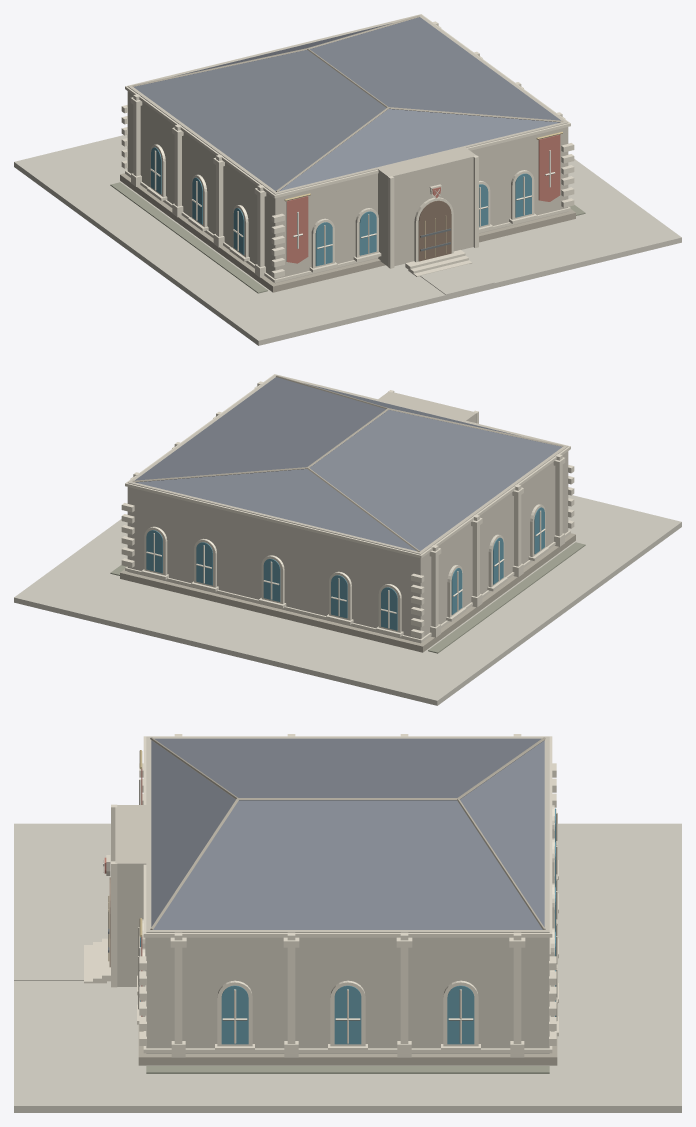
File: WarriorAcademy_Lv1.fbx
The picture shows the model from 3 angles, top to bottom: view 1: azimuth 30°, elevation 25°; view 2: azimuth 150°, elevation 25°; view 3: azimuth 270°, elevation 25°; orthographic projection. The views are drawn at different scales.
Visible parts, largest first — view 1: Slate hip roof.005, Fixed 26m plot.015, Main school walls.015, Projecting entrance bay.015, Window glass.015, School foundation.015, Stone stringcourse.015, Red school standards.005, Window frame.015, Decor side pilasters.015, Grass edging.015, Hip roof seam.005 (+8 smaller); view 2: Slate hip roof.005, Fixed 26m plot.015, Main school walls.015, Window glass.015, School foundation.015, Stone stringcourse.015, Window frame.015, Decor side pilasters.015, Grass edging.015, Hip roof seam.005, Decor rear quoins.005, Projecting entrance bay.015 (+2 smaller); view 3: Fixed 26m plot.015, Slate hip roof.005, Main school walls.015, Stone stringcourse.015, Projecting entrance bay.015, School foundation.015, Window glass.015, Decor side pilasters.015, Grass edging.015, Window frame.015, Entrance path.015, Hip roof seam.005 (+8 smaller).
Part boxes in pixels (x1,y1,x2,y2): Slate hip roof.005: (134, 17, 560, 191); Fixed 26m plot.015: (14, 135, 681, 345); Main school walls.015: (127, 14, 568, 283); Projecting entrance bay.015: (378, 146, 476, 266); Window glass.015: (151, 147, 531, 266); School foundation.015: (120, 173, 575, 292); Stone stringcourse.015: (125, 14, 570, 282); Red school standards.005: (286, 134, 560, 263); Window frame.015: (150, 144, 534, 268); Decor side pilasters.015: (133, 21, 562, 266); Grass edging.015: (110, 182, 585, 293); Hip roof seam.005: (132, 15, 563, 191); Slate hip roof.005: (135, 377, 561, 551); Fixed 26m plot.015: (14, 495, 681, 705); Main school walls.015: (127, 374, 568, 643); Window glass.015: (146, 507, 544, 630); School foundation.015: (120, 533, 575, 652); Stone stringcourse.015: (125, 374, 570, 642); Window frame.015: (144, 504, 545, 632); Decor side pilasters.015: (133, 381, 562, 626); Grass edging.015: (110, 542, 585, 653); Hip roof seam.005: (132, 375, 563, 551); Decor rear quoins.005: (121, 503, 424, 638); Projecting entrance bay.015: (376, 391, 476, 422); Fixed 26m plot.015: (14, 823, 681, 1112); Slate hip roof.005: (151, 738, 544, 929); Main school walls.015: (146, 736, 549, 1053); Stone stringcourse.015: (143, 736, 552, 1053); Projecting entrance bay.015: (115, 805, 151, 986); School foundation.015: (138, 855, 557, 1065); Window glass.015: (140, 808, 555, 1044); Decor side pilasters.015: (174, 734, 521, 1043); Grass edging.015: (146, 1066, 549, 1073); Window frame.015: (142, 805, 554, 1046); Entrance path.015: (14, 947, 83, 980); Hip roof seam.005: (150, 737, 545, 929).
Size of the model in its own units: 26 by 7.45 by 26.
